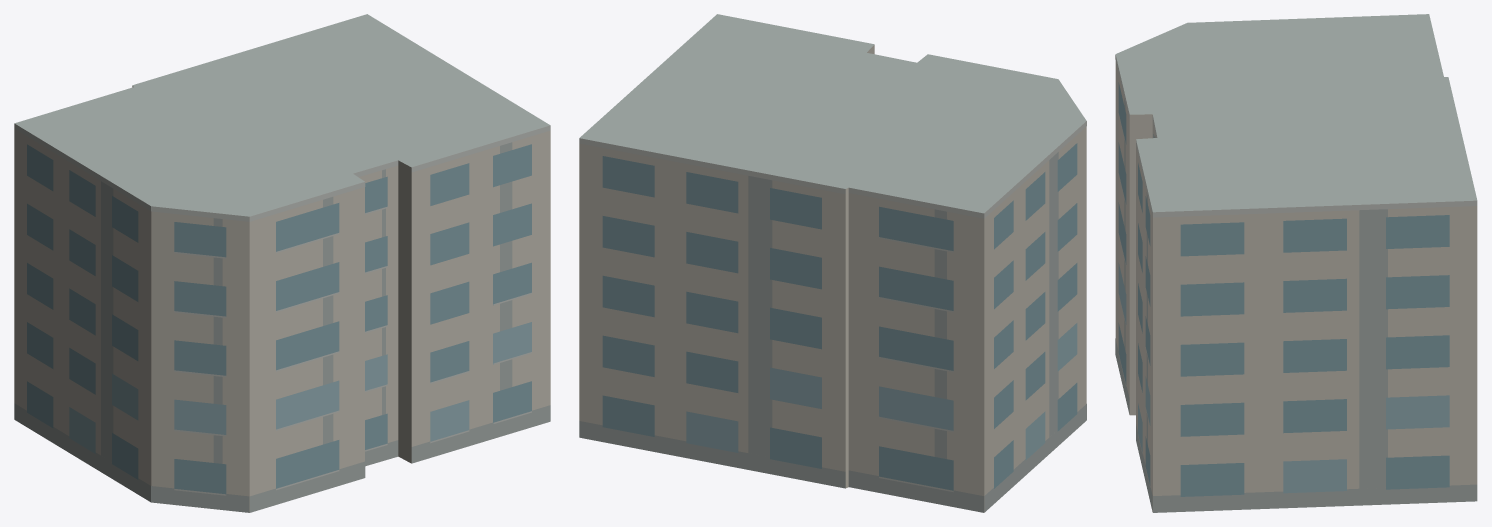
File: survey-upis-32630602.glb
3 views of the same model, side by side, from view 1: azimuth 30°, elevation 25°; view 2: azimuth 150°, elevation 25°; view 3: azimuth 270°, elevation 25° (orthographic).
Visible parts, largest first — view 1: survey-upis-32630602.tmp; view 2: survey-upis-32630602.tmp; view 3: survey-upis-32630602.tmp.
Boxes of the visible parts, x1,y1,x2,y2 form: survey-upis-32630602.tmp: (14,14,550,512); survey-upis-32630602.tmp: (579,14,1086,512); survey-upis-32630602.tmp: (1115,14,1477,512).
Bounding box in the file's own units: 19.52 × 13.8 × 15.07.
